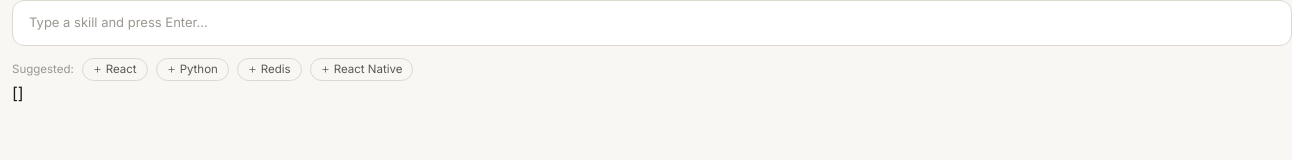
Test case: S3-PB52-UI01 typed case-insensitive substring filters suggestions
Step 1. Type "rE" into the field → (652, 23), box [23, 11, 1281, 34]
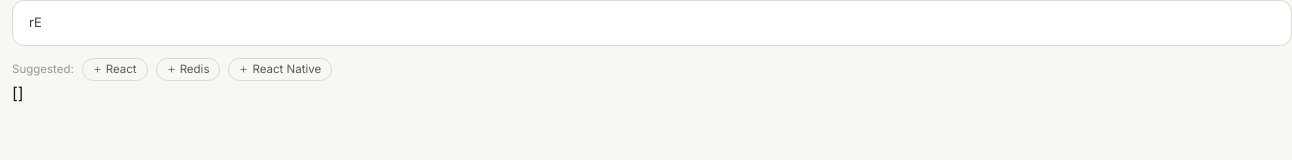
Expected: the button "React" is shown, [82, 58, 148, 81]
Expected: the button "Python" is gone
